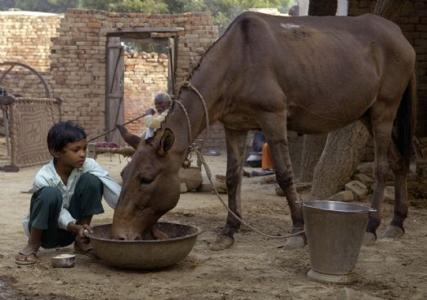person: (18, 122, 166, 266)
